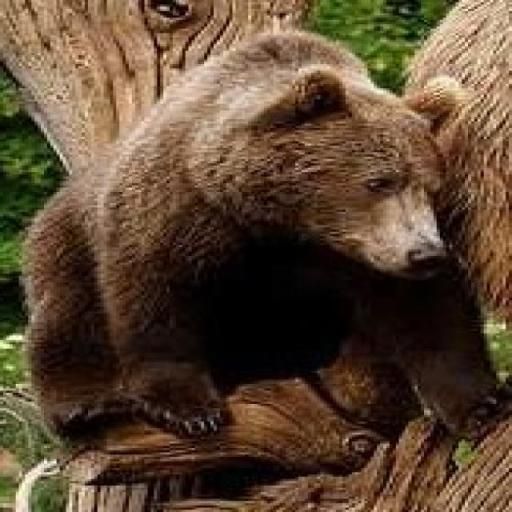Bear: (16, 26, 500, 444)
